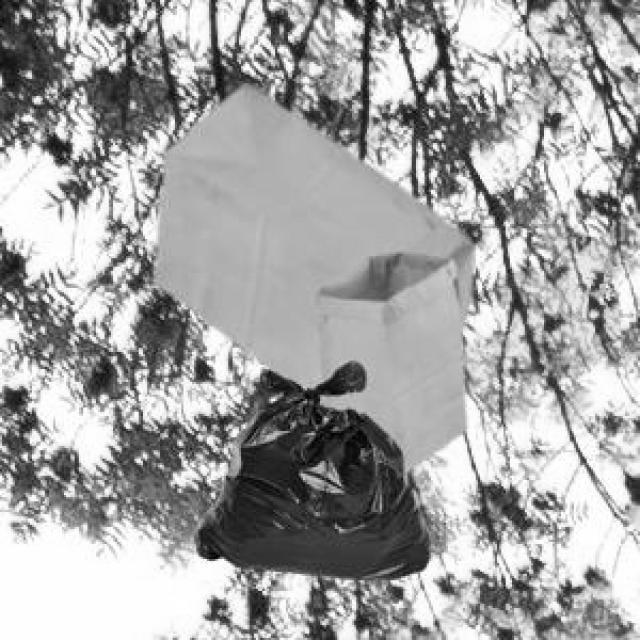miscellaneous trash: (192, 358, 427, 576)
paper: (152, 81, 469, 403), (314, 250, 463, 469)
